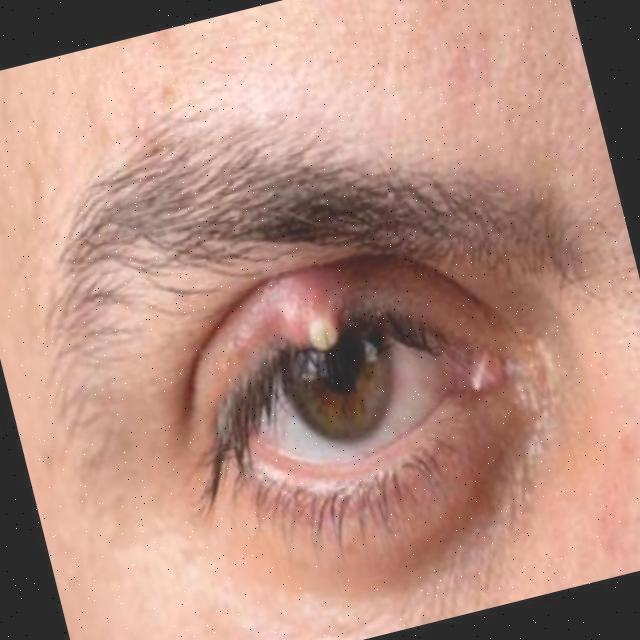Stye: (204, 240, 396, 392)
